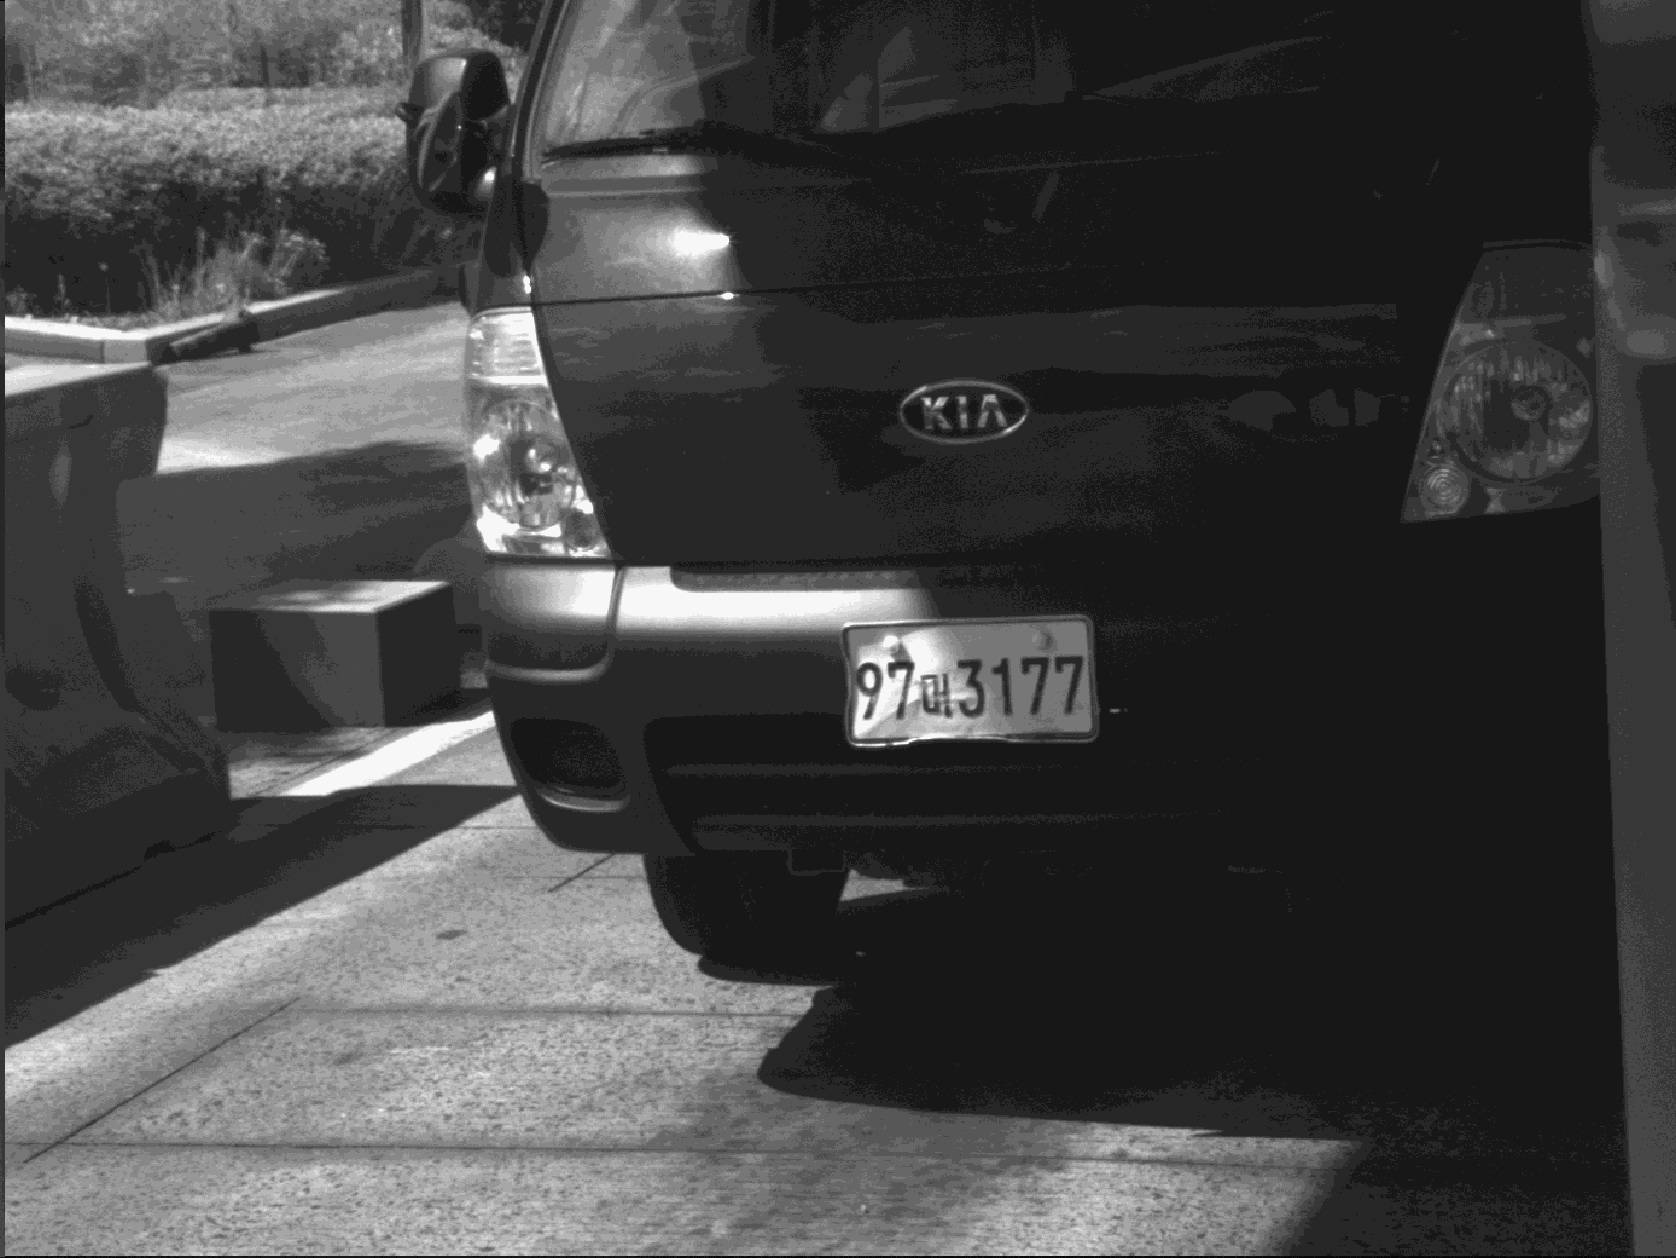car: (407, 3, 1602, 978)
plate: (844, 615, 1100, 742)
